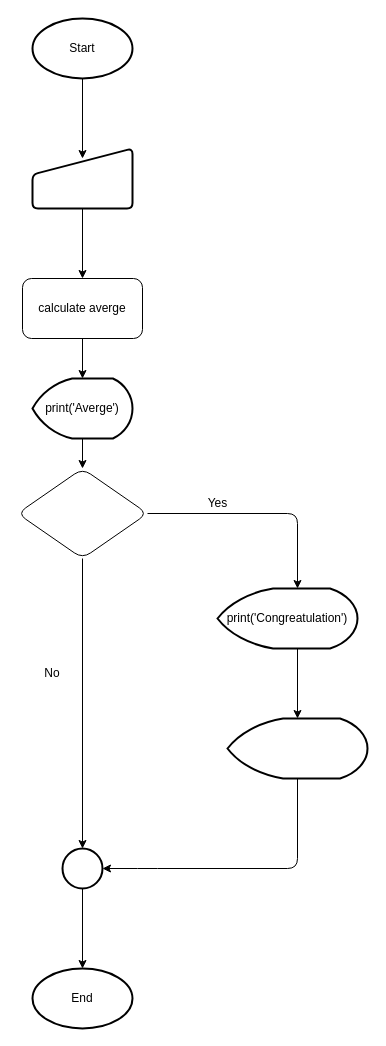
This 386x1046 diagram has some shape labels left out. The box of each missing label's shape, as (x1, y1, x2, y2) in pixels:
Average Score > 95: (16, 468, 148, 558)
print('That is the great average!'): (226, 717, 368, 779)
Score1,2,3: (31, 147, 133, 209)
